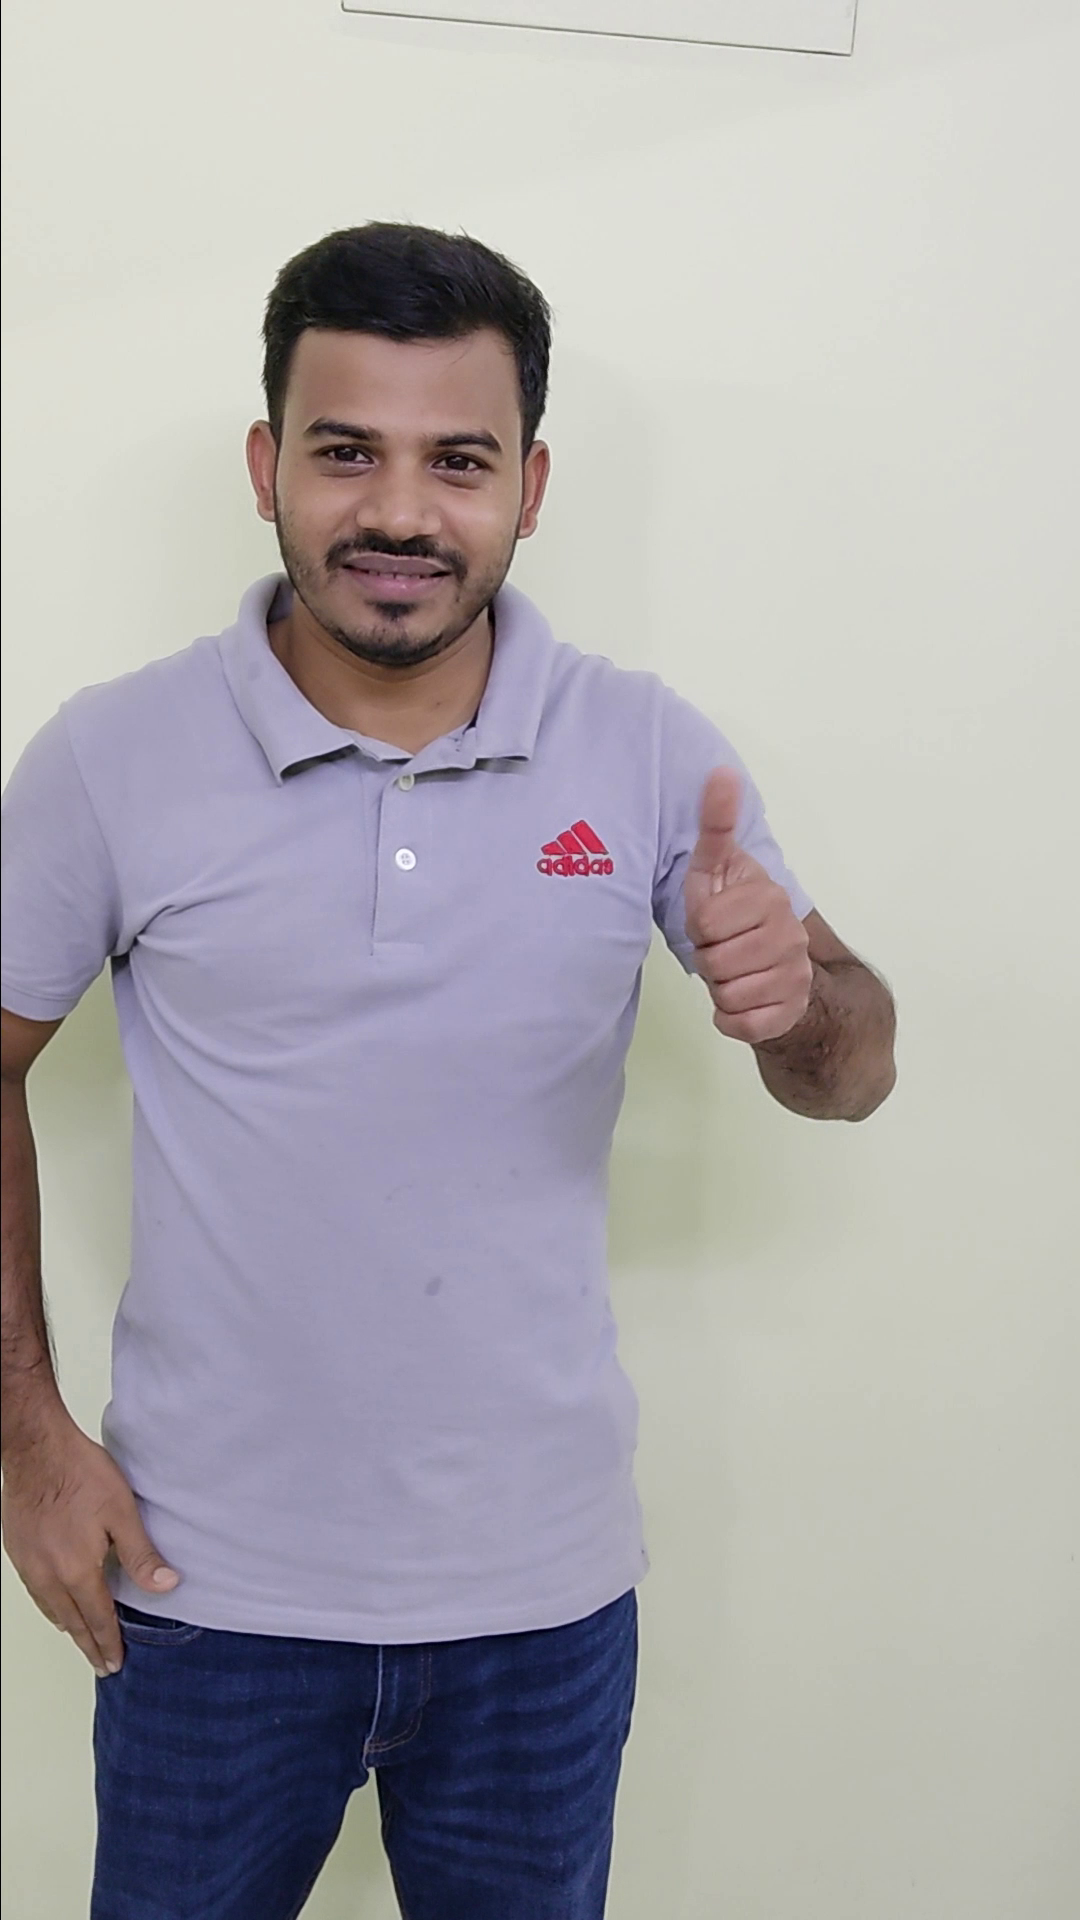Like: (647, 749, 832, 1054)
None: (3, 1394, 186, 1685)
